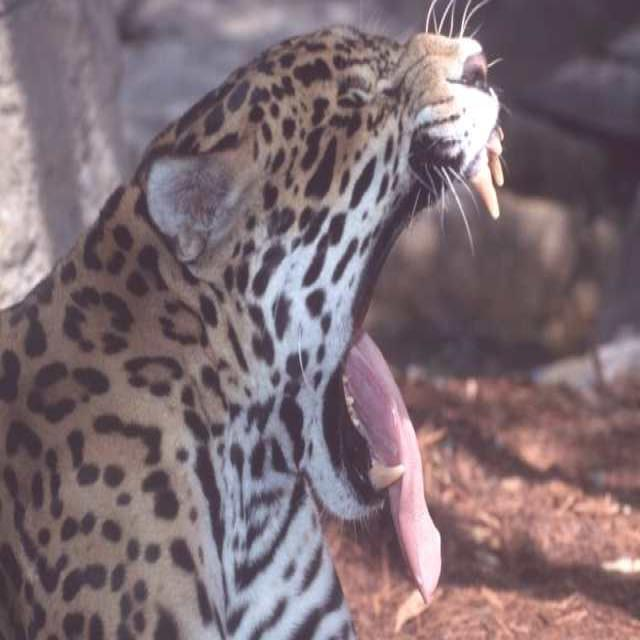Leopard: (0, 0, 503, 635)
